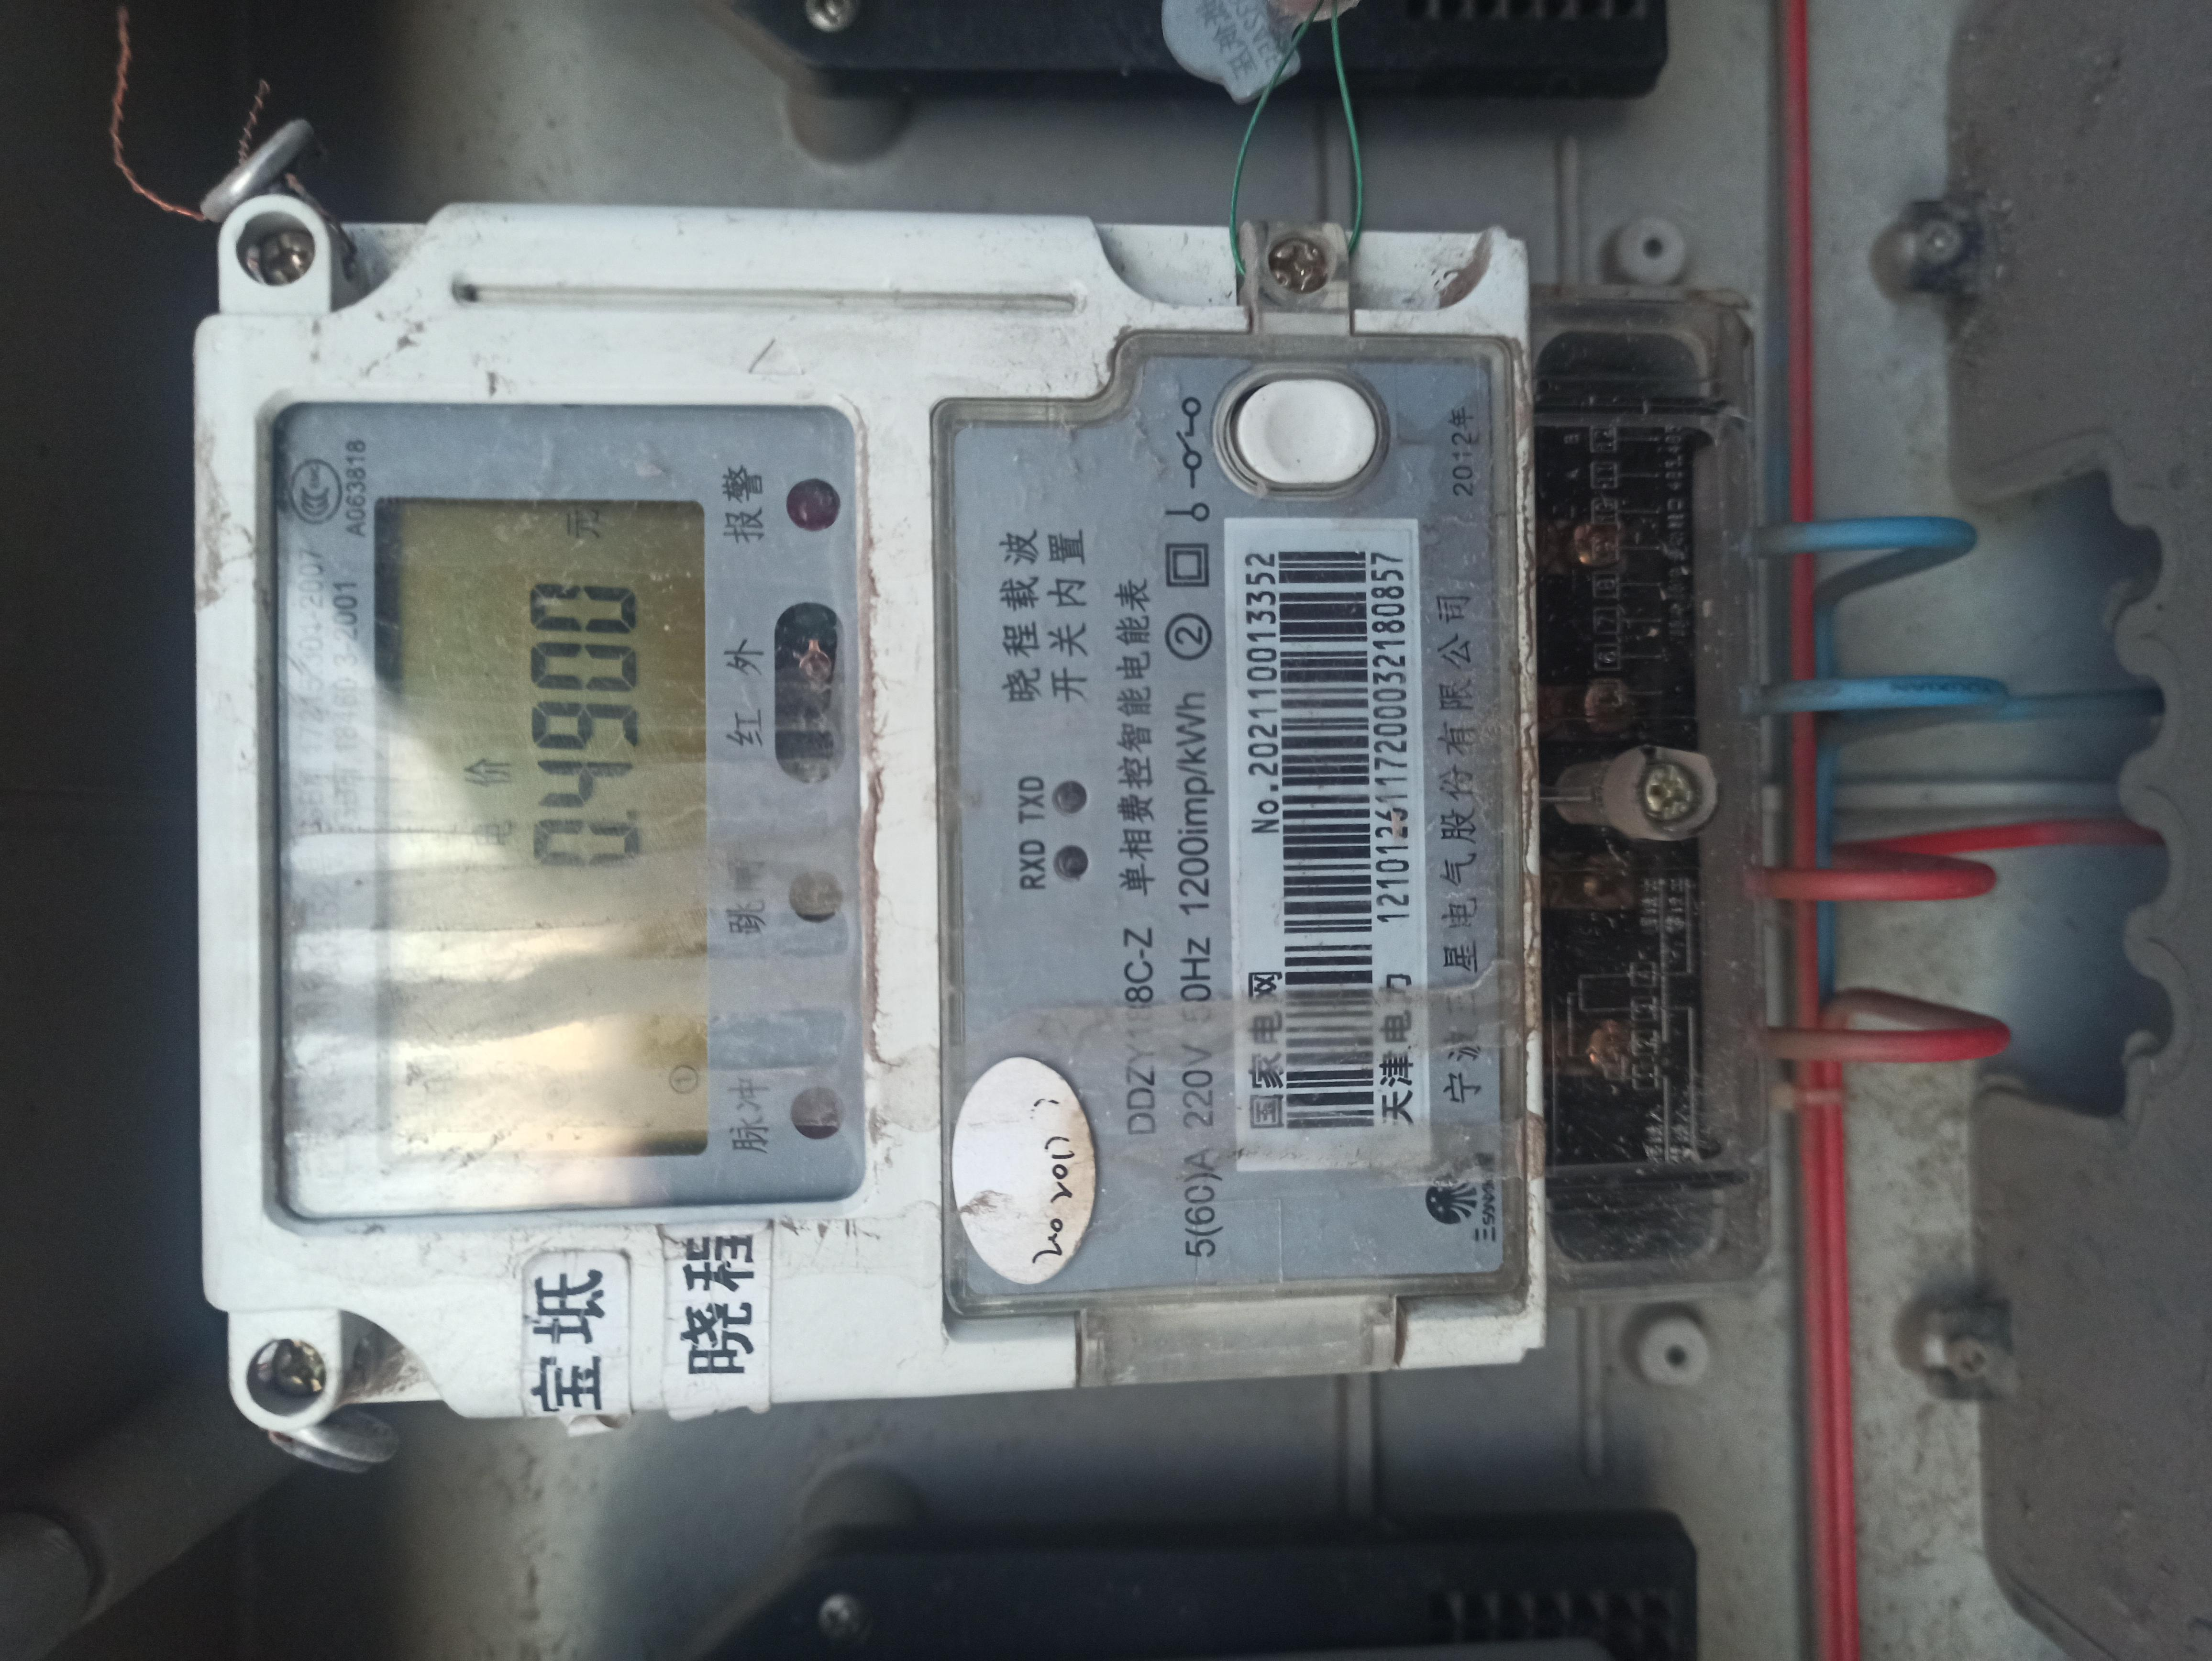digital: (192, 204, 1544, 1410)
